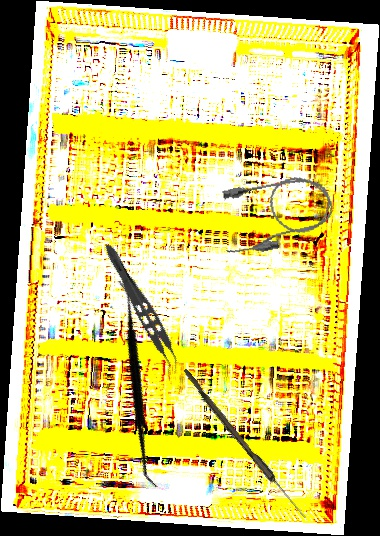Cannula: (214, 168, 339, 260)
Spatula Surgical: (38, 279, 238, 489)
Surgical Spoon: (179, 368, 310, 521)
Tissue Forceps: (92, 240, 188, 378)
